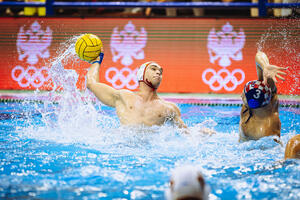ball: (75, 33, 103, 62)
ignore: (284, 133, 300, 159)
player: (85, 52, 217, 141), (238, 52, 287, 144), (168, 165, 211, 200)
